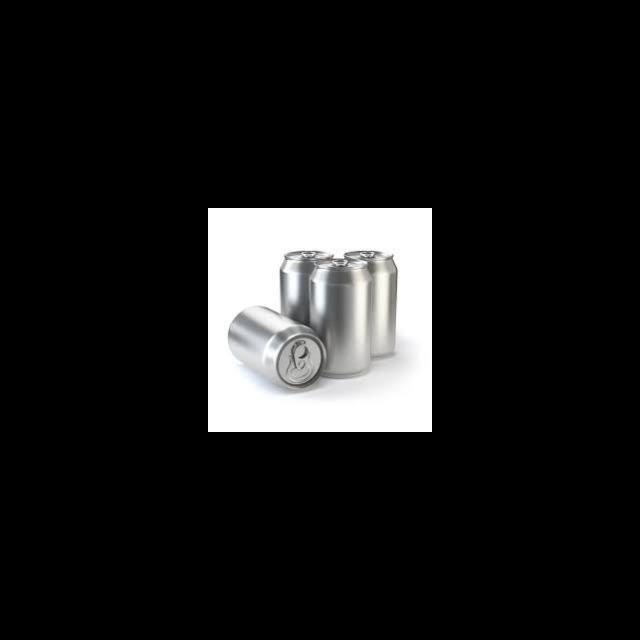metal: (221, 296, 329, 394), (303, 253, 374, 382)
